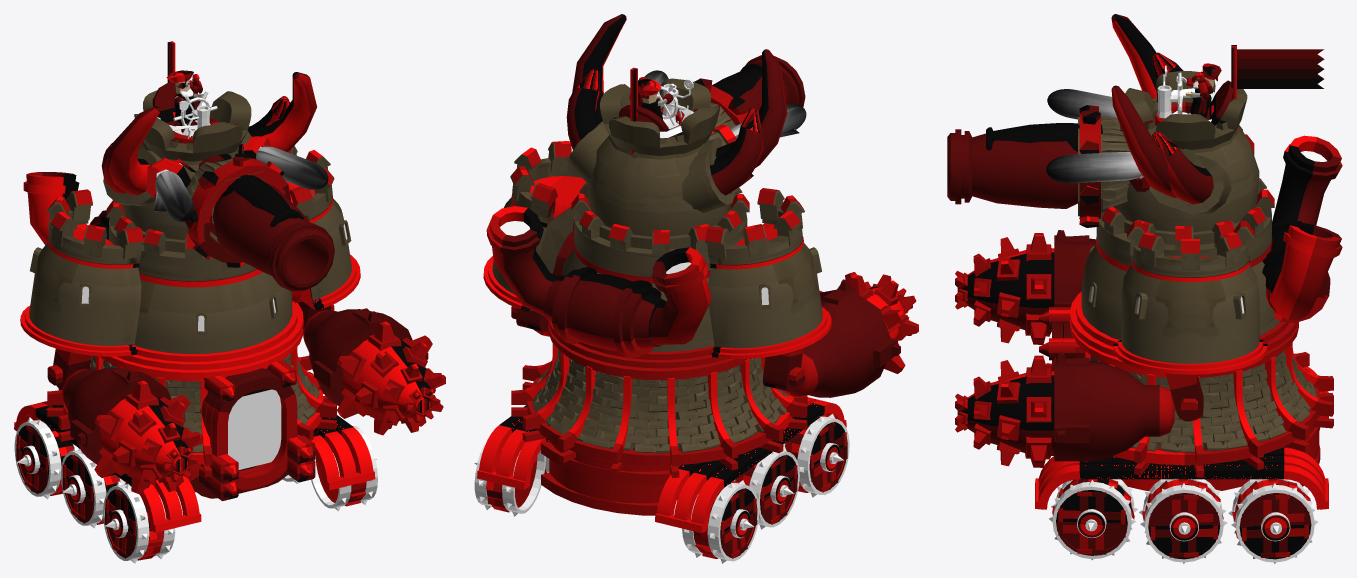
File: Boss_T0_Drill.glb
3 views of the same model, side by side, from view 1: azimuth 30°, elevation 25°; view 2: azimuth 150°, elevation 25°; view 3: azimuth 270°, elevation 25° (orthographic). The views are drawn at different scales.
Parts seen in each view (by area): view 1: Wanderburg_Boss0_Overhaul_003, BASE.015, Wanderburg_Boss0_Overhaul_014, Cube.143, Arms, Cylinder.001, Cylinder.056, Cannon2.001, Wanderburg_Boss0_Overhaul_008, Wanderburg_Models_tf_Wheel_T3_001.004, Plane, Wanderburg_Models_tf_Wheel_T3_001.005 (+7 smaller); view 2: Wanderburg_Boss0_Overhaul_003, BASE.015, Wanderburg_Boss0_Overhaul_014, Cube.143, Arms, Wanderburg_Boss0_Overhaul_008, Wanderburg_Models_tf_Wheel_T3_001.005, Wanderburg_Models_tf_Wheel_T3_001.004, Wanderburg_Models_tf_Wheel_T3_001.003, Cylinder.056, Wanderburg_Models_tf_Wheel_T3_001.002, Cannon2.001 (+3 smaller); view 3: Wanderburg_Boss0_Overhaul_003, BASE.015, Wanderburg_Boss0_Overhaul_014, Cube.143, Arms, Cannon2.001, Cylinder.001, Cylinder.056, Wanderburg_Boss0_Overhaul_008, Wanderburg_Models_tf_Wheel_T3_001.002, Wanderburg_Models_tf_Wheel_T3_001.001, Wanderburg_Models_tf_Wheel_T3_001 (+6 smaller).
Boxes of the visible parts, bbox=[...] form: Wanderburg_Boss0_Overhaul_003: bbox=[14, 329, 375, 532]; BASE.015: bbox=[23, 172, 303, 369]; Wanderburg_Boss0_Overhaul_014: bbox=[20, 146, 360, 356]; Cube.143: bbox=[101, 90, 293, 267]; Arms: bbox=[47, 301, 428, 474]; Cylinder.001: bbox=[337, 321, 445, 435]; Cylinder.056: bbox=[94, 380, 203, 494]; Cannon2.001: bbox=[212, 184, 334, 291]; Wanderburg_Boss0_Overhaul_008: bbox=[107, 72, 316, 252]; Wanderburg_Models_tf_Wheel_T3_001.004: bbox=[103, 481, 175, 563]; Plane: bbox=[228, 389, 281, 469]; Wanderburg_Models_tf_Wheel_T3_001.005: bbox=[14, 417, 80, 499]; Wanderburg_Boss0_Overhaul_003: bbox=[477, 325, 846, 533]; BASE.015: bbox=[486, 182, 749, 368]; Wanderburg_Boss0_Overhaul_014: bbox=[483, 141, 831, 358]; Cube.143: bbox=[566, 69, 763, 236]; Arms: bbox=[511, 279, 900, 397]; Wanderburg_Boss0_Overhaul_008: bbox=[572, 14, 787, 249]; Wanderburg_Models_tf_Wheel_T3_001.005: bbox=[682, 480, 759, 563]; Wanderburg_Models_tf_Wheel_T3_001.004: bbox=[783, 414, 849, 497]; Wanderburg_Models_tf_Wheel_T3_001.003: bbox=[734, 446, 799, 529]; Cylinder.056: bbox=[819, 272, 918, 373]; Wanderburg_Models_tf_Wheel_T3_001.002: bbox=[474, 432, 545, 516]; Cannon2.001: bbox=[712, 55, 805, 111]; Wanderburg_Boss0_Overhaul_003: bbox=[1035, 307, 1333, 509]; BASE.015: bbox=[1069, 135, 1342, 356]; Wanderburg_Boss0_Overhaul_014: bbox=[1113, 125, 1267, 374]; Cube.143: bbox=[1078, 52, 1259, 232]; Arms: bbox=[1054, 230, 1203, 461]; Cannon2.001: bbox=[947, 129, 1077, 208]; Cylinder.001: bbox=[955, 355, 1054, 467]; Cylinder.056: bbox=[955, 233, 1054, 344]; Wanderburg_Boss0_Overhaul_008: bbox=[1111, 14, 1260, 245]; Wanderburg_Models_tf_Wheel_T3_001.002: bbox=[1228, 479, 1318, 563]; Wanderburg_Models_tf_Wheel_T3_001.001: bbox=[1139, 479, 1227, 563]; Wanderburg_Models_tf_Wheel_T3_001: bbox=[1049, 479, 1138, 560].
Bounding box in the file's own units: 23.3 × 28.38 × 22.09.
Materials: 22 (12 with a texture image).
